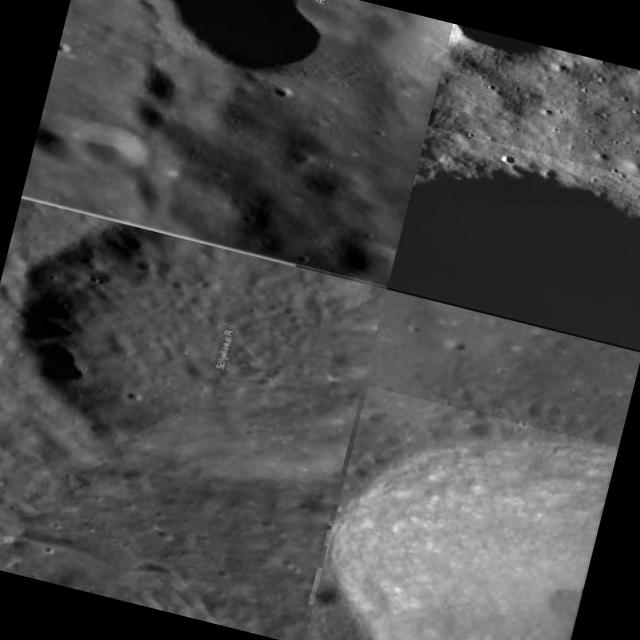crater: (0, 203, 385, 506), (303, 386, 616, 640), (386, 125, 640, 350), (131, 0, 451, 114), (448, 23, 566, 69), (315, 226, 396, 286), (308, 566, 344, 610)
